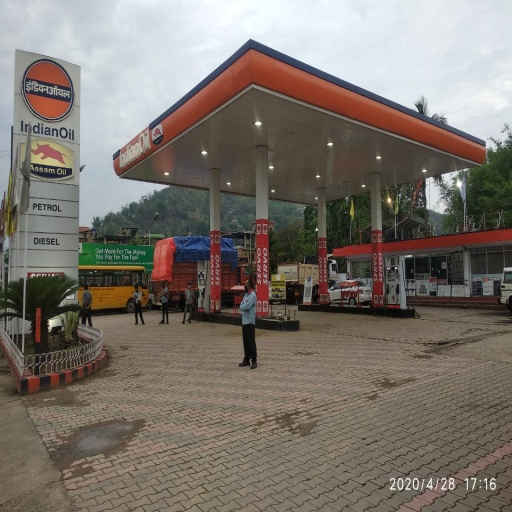roof: (111, 40, 485, 209)
